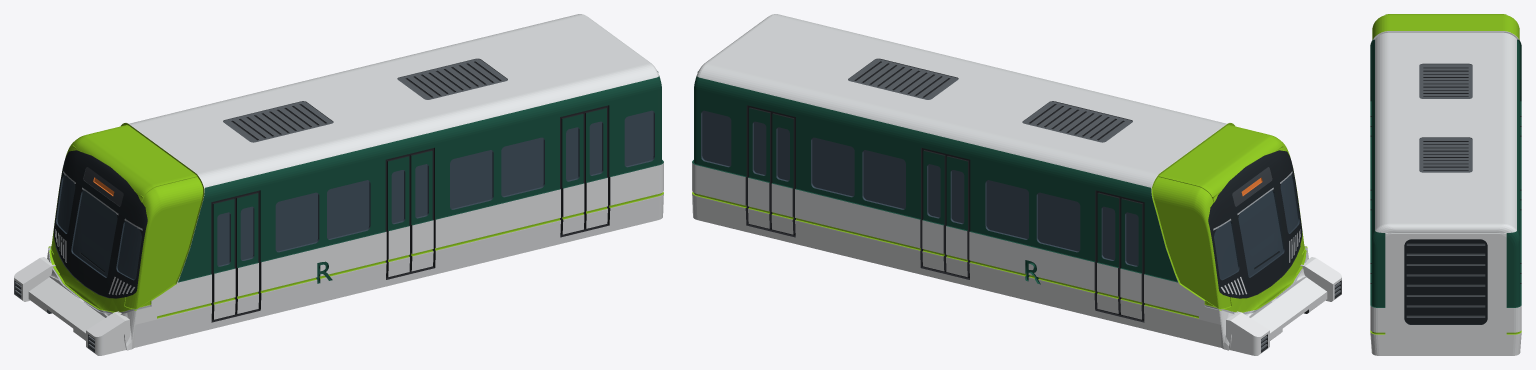
File: rem.glb
The picture shows the model from 3 angles, left to right: view 1: azimuth 30°, elevation 25°; view 2: azimuth 150°, elevation 25°; view 3: azimuth 270°, elevation 25°; orthographic projection. The views are drawn at different scales.
Visible parts, largest first — view 1: mtl_rem; view 2: mtl_rem; view 3: mtl_rem.
Part boxes in pixels (x1=…): mtl_rem: x1=14, y1=14, x2=663, y2=355; mtl_rem: x1=692, y1=14, x2=1341, y2=355; mtl_rem: x1=1370, y1=14, x2=1521, y2=355.
Bounding box in the file's own units: 150 × 38 × 40.
